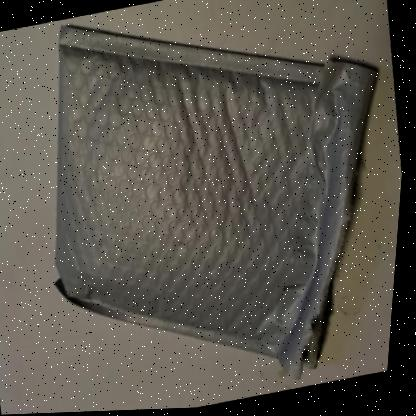Plastic: (58, 26, 378, 378)
